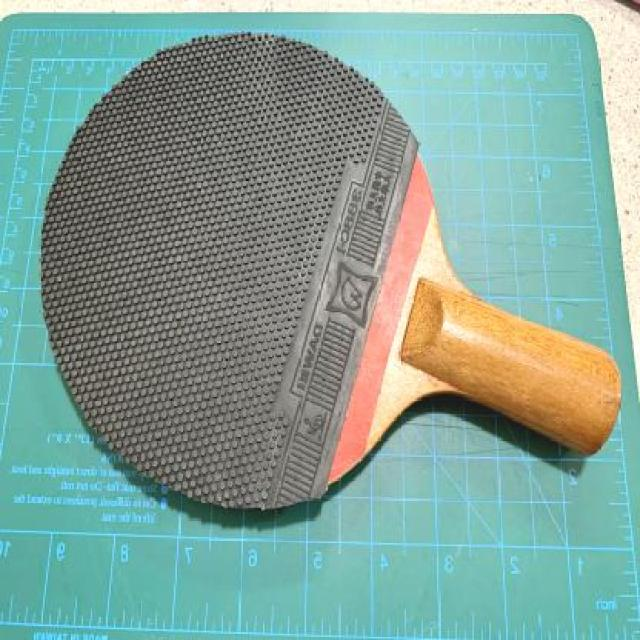table_tennis_racket: (33, 32, 459, 525)
